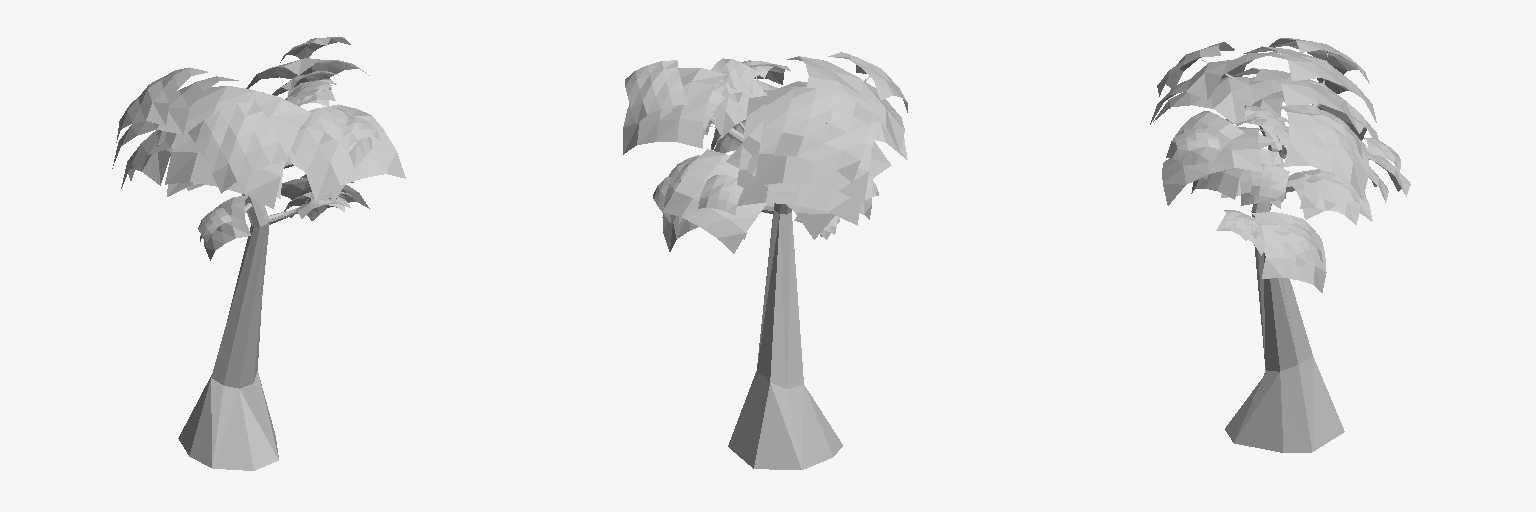
File: game_tree5.obj
3 renders of one model, left to right at view 1: azimuth 30°, elevation 25°; view 2: azimuth 150°, elevation 25°; view 3: azimuth 270°, elevation 25°, orthographic.
Parts seen in each view (by area): view 1: Plane; view 2: Plane; view 3: Plane.
Part boxes in pixels (bbox=[...]): Plane: bbox=[112, 37, 405, 470]; Plane: bbox=[623, 52, 907, 469]; Plane: bbox=[1150, 38, 1410, 452].
Bounding box in the file's own units: 9.82 × 14.7 × 9.28.